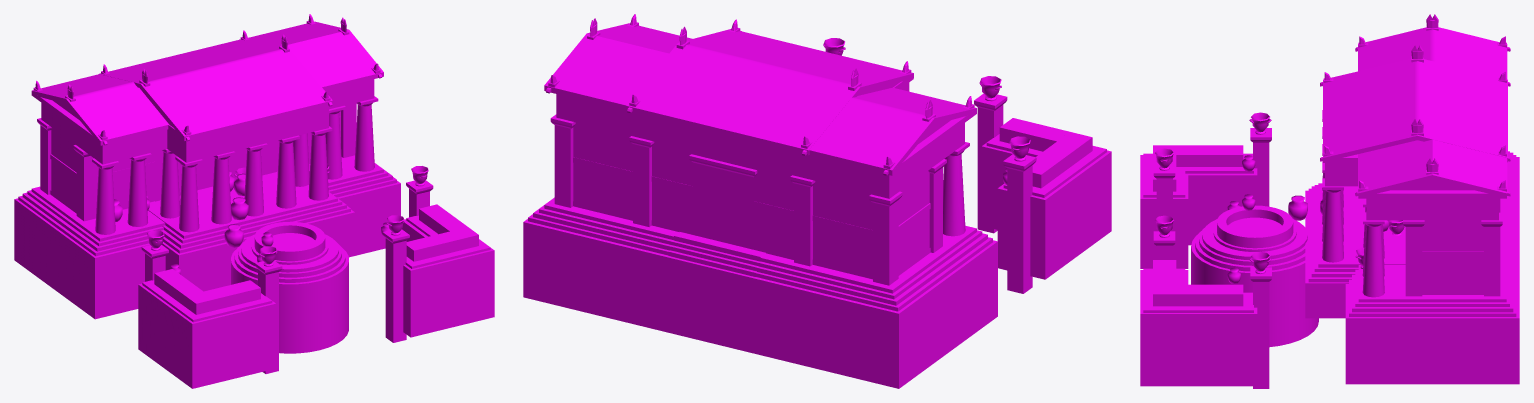
File: sparta_civic_center.glb
The picture shows the model from 3 angles, left to right: view 1: azimuth 30°, elevation 25°; view 2: azimuth 150°, elevation 25°; view 3: azimuth 270°, elevation 25°; orthographic projection. The views are drawn at different scales.
Visible parts, largest first — view 1: Cube_001-mesh; view 2: Cube_001-mesh; view 3: Cube_001-mesh.
Part boxes in pixels (box(x1,y1,x2,y2)): Cube_001-mesh: box(14, 14, 494, 388); Cube_001-mesh: box(523, 14, 1111, 388); Cube_001-mesh: box(1140, 14, 1519, 388).
Bounding box in the file's own units: 31.76 × 21.94 × 31.56.
